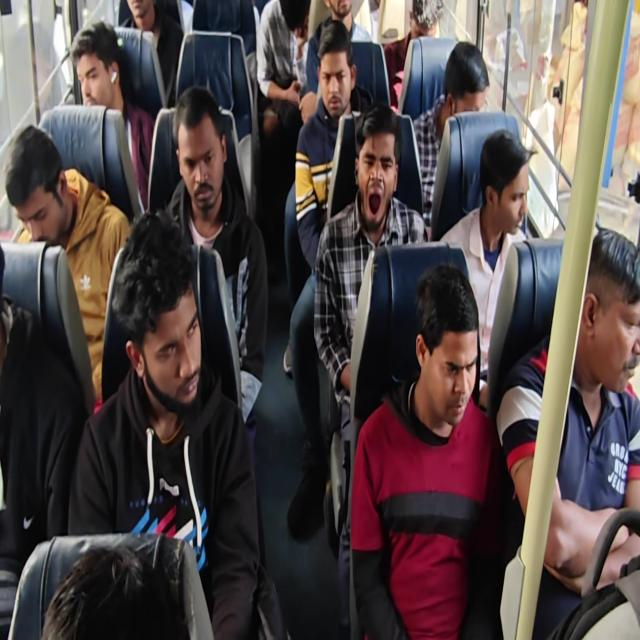person: (126, 232, 204, 412), (12, 132, 100, 262), (589, 231, 640, 397), (421, 294, 477, 429), (304, 31, 359, 163), (166, 80, 226, 198), (482, 125, 532, 237), (444, 43, 485, 156), (77, 30, 131, 112), (356, 130, 389, 233), (275, 0, 319, 63), (401, 0, 444, 60), (320, 0, 355, 44), (109, 0, 153, 24)
